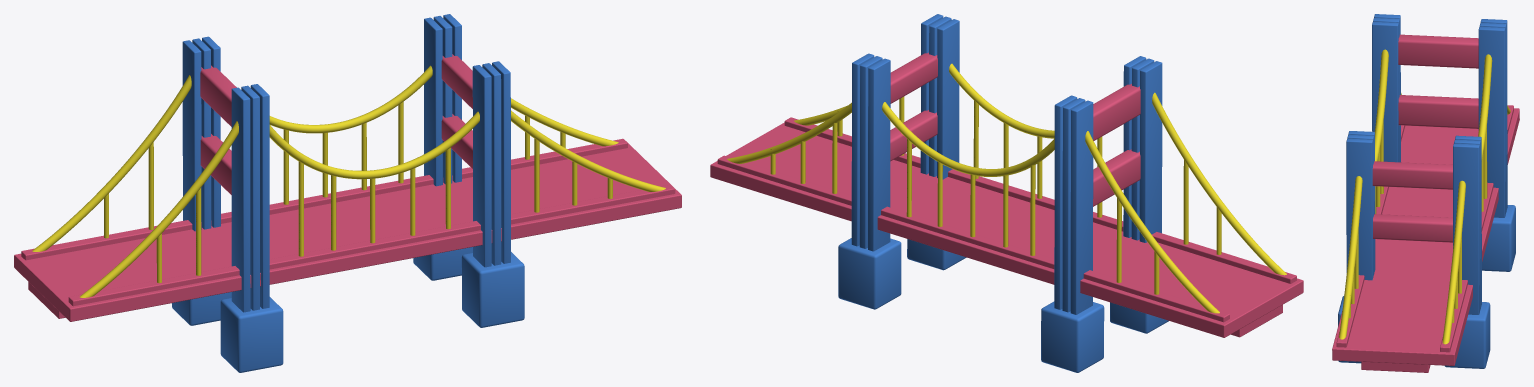
The model's file is bridge-loan-3d-animated-icon-946217302181.glb.
3 renders of one model, left to right at view 1: azimuth 30°, elevation 25°; view 2: azimuth 150°, elevation 25°; view 3: azimuth 270°, elevation 25°, orthographic. The views are drawn at different scales.
Parts seen in each view (by area): view 1: Plane.075, Cube.104; view 2: Plane.075, Cube.104; view 3: Plane.075, Cube.104.
Part boxes in pixels (x1=…): Plane.075: x1=14, y1=54, x2=681, y2=321; Cube.104: x1=172, y1=14, x2=524, y2=372; Plane.075: x1=710, y1=52, x2=1303, y2=337; Cube.104: x1=838, y1=14, x2=1168, y2=372; Plane.075: x1=1332, y1=34, x2=1519, y2=372; Cube.104: x1=1338, y1=14, x2=1515, y2=368.
Size of what is drawn, in the model's own units: 14.35 by 6.29 by 4.5.
